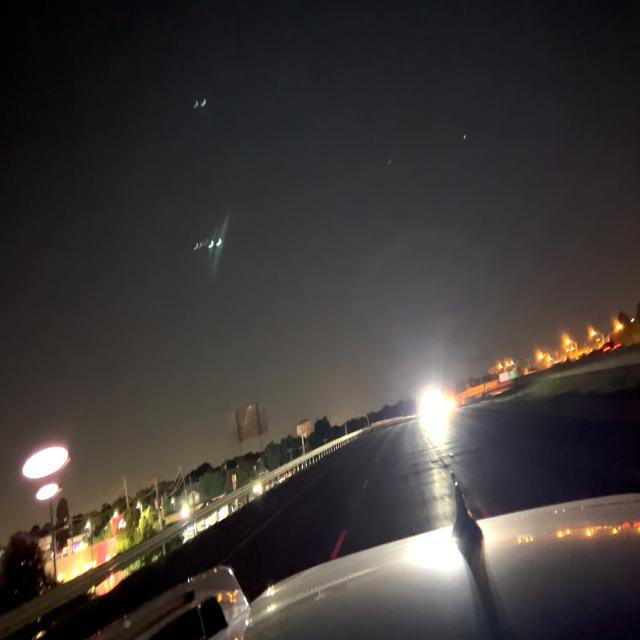back-of-sign: (227, 401, 269, 446)
